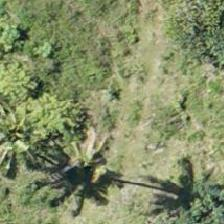coconut_tree: (0, 98, 53, 188)
